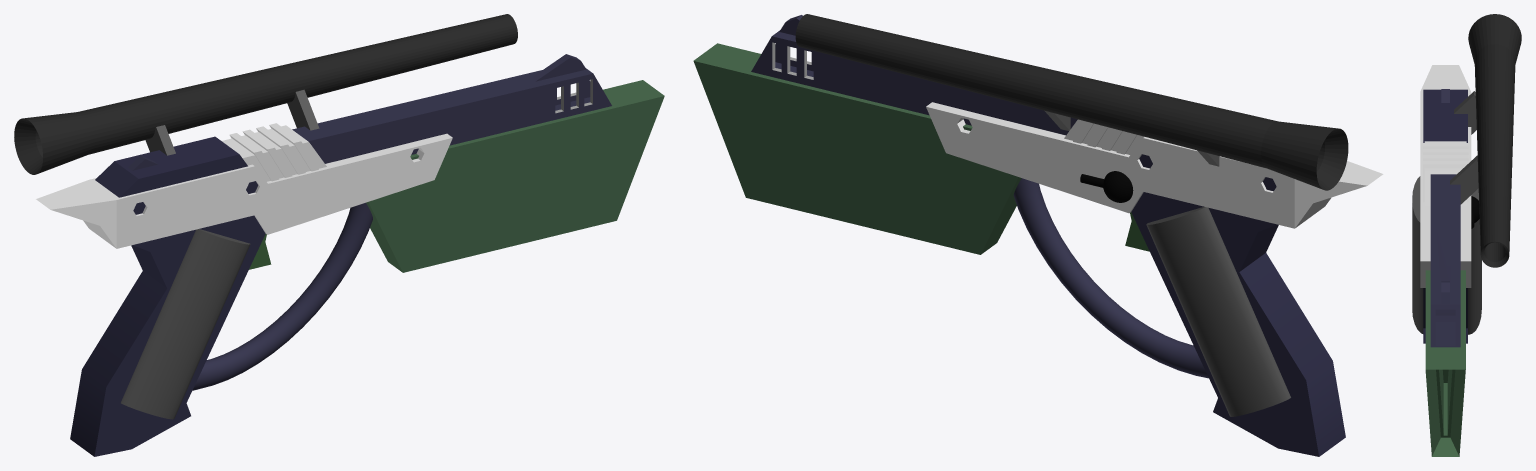
Rendered from FinishedGun.fbx.
The picture shows the model from 3 angles, left to right: view 1: azimuth 30°, elevation 25°; view 2: azimuth 150°, elevation 25°; view 3: azimuth 270°, elevation 25°; orthographic projection. The views are drawn at different scales.
Parts seen in each view (by area): view 1: pCube19, pCube14, pCylinder2, pCylinder5, pCube13; view 2: pCube19, pCube14, pCylinder2, pCylinder4, pSphere1; view 3: pCube19, pCylinder2, pCube14, pCylinder5, pCylinder4, pCube13, pCube12, pSphere1.
Boxes of the visible parts, x1,y1,x2,y2 form: pCube19: [36, 54, 611, 456]; pCube14: [366, 80, 664, 272]; pCylinder2: [14, 14, 517, 174]; pCylinder5: [121, 229, 250, 419]; pCube13: [287, 89, 319, 130]; pCube19: [751, 15, 1383, 456]; pCube14: [693, 43, 1021, 254]; pCylinder2: [795, 14, 1348, 190]; pCylinder4: [1146, 206, 1290, 416]; pSphere1: [1103, 171, 1133, 202]; pCube19: [1420, 65, 1471, 347]; pCylinder2: [1468, 14, 1521, 267]; pCube14: [1425, 270, 1465, 456]; pCylinder5: [1412, 176, 1423, 333]; pCylinder4: [1468, 188, 1481, 334]; pCube13: [1450, 155, 1478, 204]; pCube12: [1454, 91, 1476, 134]; pSphere1: [1471, 196, 1479, 222].
Size of the model in its own units: 15.38 by 7.6 by 2.59.
